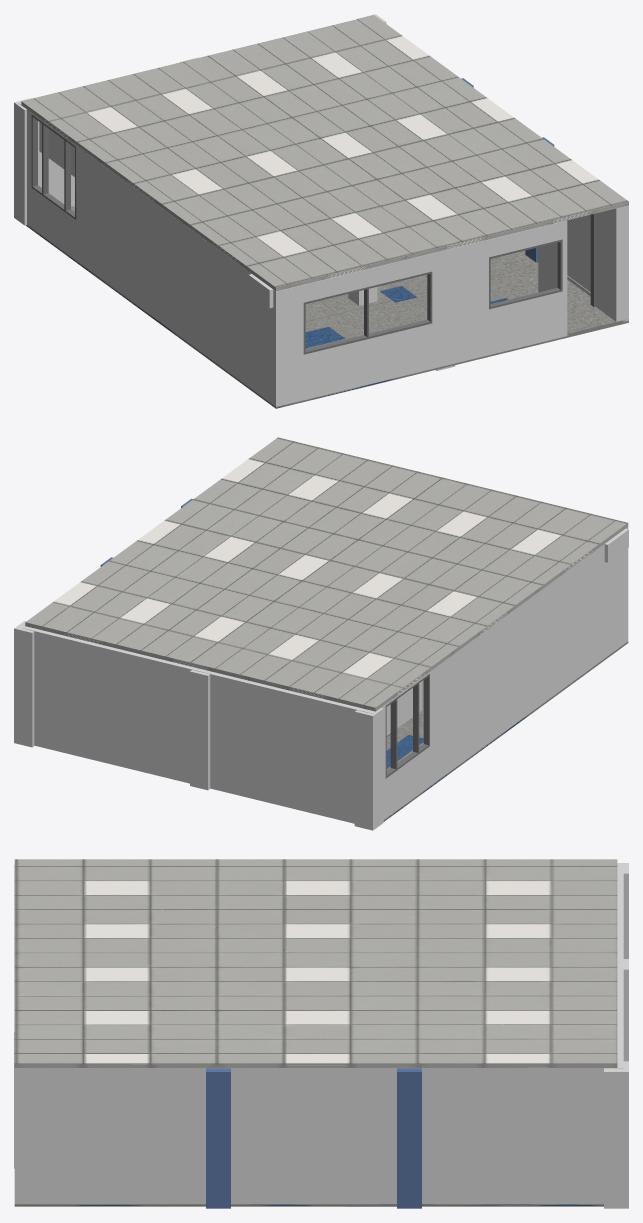
The model's file is AulaAAYAA (1).fbx.
3 views of the same model, one above another, from view 1: azimuth 30°, elevation 25°; view 2: azimuth 150°, elevation 25°; view 3: azimuth 270°, elevation 25° (orthographic). The views are drawn at different scales.
Visible parts, largest first — view 1: Cube.021, Cube.001, Cube.004, Cube.010, Cube.024, Cube.005, Cube.003, Cube.017, Cube.022, Cube.002; view 2: Cube.021, Cube.002, Cube.001, Cube.017, Cube.015, Cube.013, Cube.024, Cube.010, Cube.022; view 3: Cube.021, Cube.003, Cube.015, Cube.009, Cube.014, Cube.010, Cube.002, Cube.013, Cube.017.
Boxes of the visible parts, box(x1,y1,x2,y2) form: Cube.021: box(21, 15, 628, 291); Cube.001: box(21, 105, 276, 406); Cube.004: box(276, 220, 567, 406); Cube.010: box(26, 206, 628, 408); Cube.024: box(31, 114, 595, 354); Cube.005: box(248, 207, 623, 321); Cube.003: box(567, 205, 628, 321); Cube.017: box(14, 98, 41, 225); Cube.022: box(39, 122, 74, 176); Cube.002: box(18, 102, 74, 203); Cube.021: box(25, 437, 628, 711); Cube.002: box(22, 626, 375, 823); Cube.001: box(376, 527, 628, 819); Cube.017: box(354, 708, 383, 830); Cube.015: box(14, 621, 34, 747); Cube.013: box(190, 670, 210, 790); Cube.024: box(385, 674, 429, 778); Cube.010: box(383, 641, 628, 821); Cube.022: box(386, 681, 422, 735); Cube.021: box(14, 859, 617, 1067); Cube.003: box(14, 1068, 616, 1204); Cube.015: box(604, 1061, 628, 1208); Cube.009: box(206, 1068, 230, 1208); Cube.014: box(397, 1068, 421, 1208); Cube.010: box(14, 1204, 603, 1206); Cube.002: box(617, 864, 623, 1068); Cube.013: box(623, 959, 628, 1061); Cube.017: box(617, 863, 628, 958).
Size of the model in its own units: 1974 by 652 by 2449.
